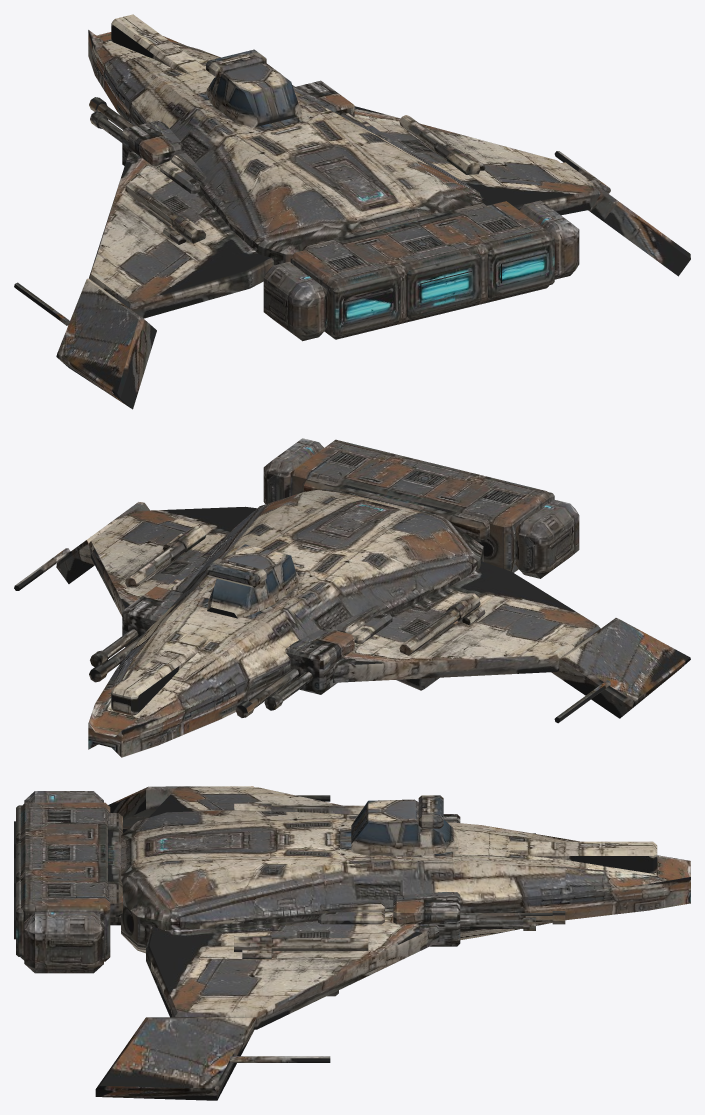
Rendered from scrapper-b.glb.
The picture shows the model from 3 angles, top to bottom: view 1: azimuth 30°, elevation 25°; view 2: azimuth 150°, elevation 25°; view 3: azimuth 270°, elevation 25°; orthographic projection.
Parts seen in each view (by area): view 1: hero_scrapper_hull_b, hero_scrapper_wings_b, hero_scrapper_engines_b, hero_scrapper_cockpit_b; view 2: hero_scrapper_hull_b, hero_scrapper_wings_b, hero_scrapper_engines_b, hero_scrapper_cockpit_b; view 3: hero_scrapper_hull_b, hero_scrapper_wings_b, hero_scrapper_engines_b, hero_scrapper_cockpit_b.
Part boxes in pixels (x1,y1,x2,y2): hero_scrapper_hull_b: [88, 14, 482, 265]; hero_scrapper_wings_b: [14, 106, 690, 409]; hero_scrapper_engines_b: [263, 200, 579, 341]; hero_scrapper_cockpit_b: [206, 49, 302, 127]; hero_scrapper_hull_b: [88, 488, 483, 757]; hero_scrapper_wings_b: [14, 502, 690, 723]; hero_scrapper_engines_b: [263, 438, 579, 578]; hero_scrapper_cockpit_b: [206, 544, 300, 618]; hero_scrapper_hull_b: [121, 810, 690, 953]; hero_scrapper_wings_b: [95, 786, 439, 1100]; hero_scrapper_engines_b: [14, 791, 122, 973]; hero_scrapper_cockpit_b: [351, 795, 458, 855].
Bounding box in the file's own units: 1.57 × 0.4253 × 1.62.
Materials: 1 (1 with a texture image).
